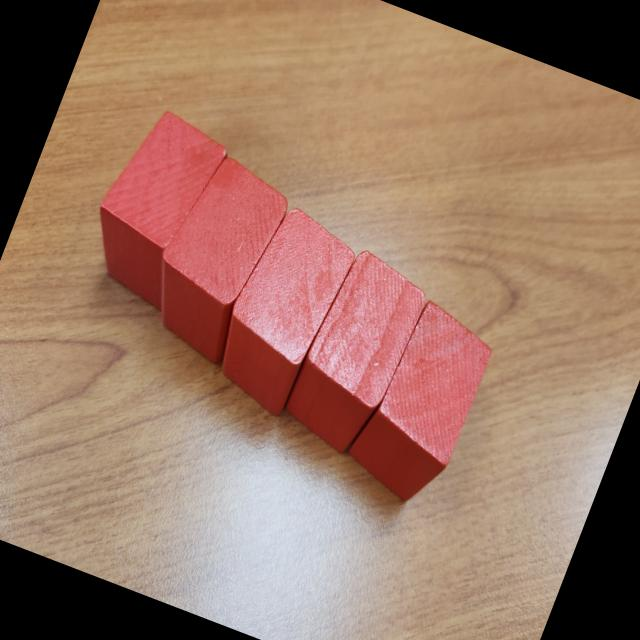red: (336, 292, 504, 517), (131, 146, 298, 370), (200, 200, 364, 423), (72, 100, 235, 316), (277, 244, 436, 463)
